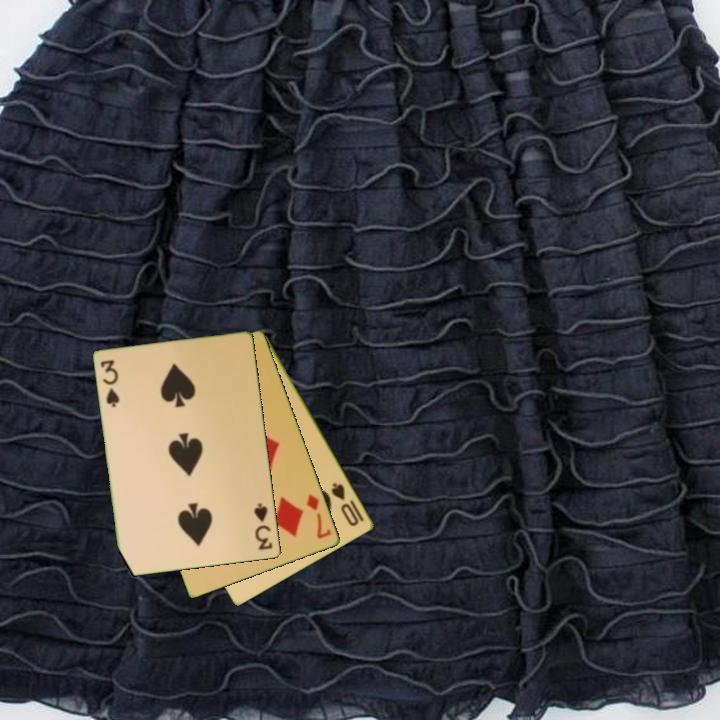10s: (328, 479, 362, 529)
3s: (97, 356, 123, 410), (251, 500, 276, 553)
7d: (303, 491, 334, 542)
